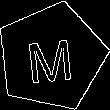M_N: (25, 29, 77, 85)
